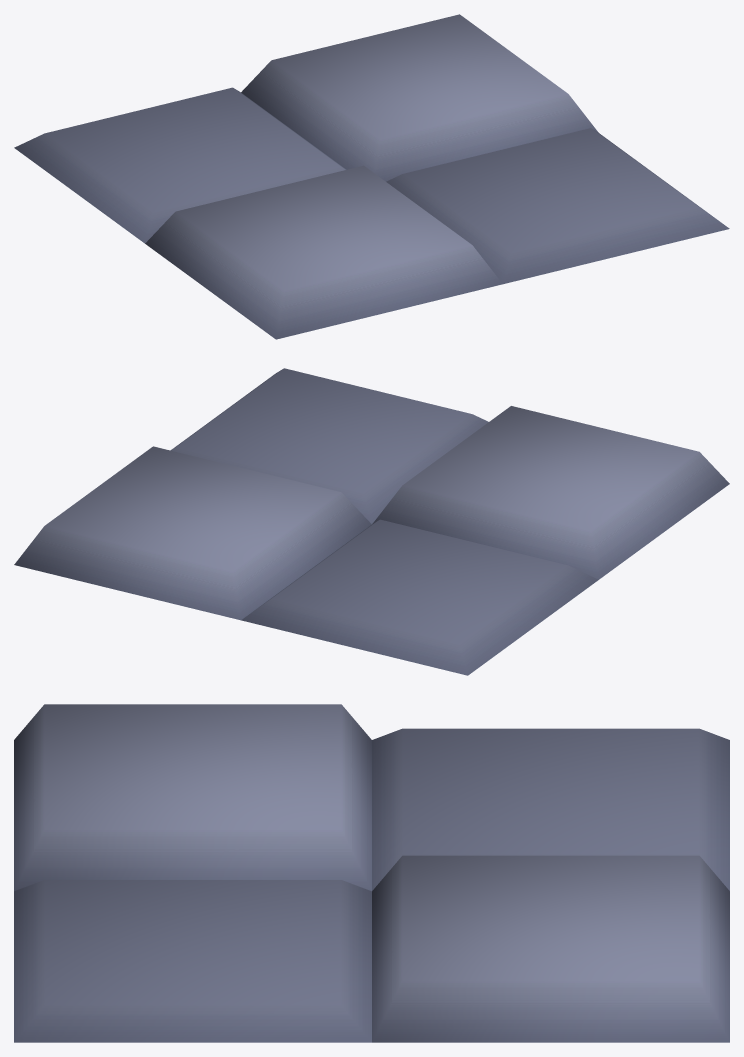
File: floor-stone.glb
The picture shows the model from 3 angles, top to bottom: view 1: azimuth 30°, elevation 25°; view 2: azimuth 150°, elevation 25°; view 3: azimuth 270°, elevation 25°; orthographic projection. The views are drawn at different scales.
Visible parts, largest first — view 1: floor-stone; view 2: floor-stone; view 3: floor-stone.
Part boxes in pixels (x1,y1,x2,y2): floor-stone: (14, 14, 729, 339); floor-stone: (14, 368, 729, 675); floor-stone: (14, 704, 729, 1042).
Size of the model in its own units: 1 by 0.075 by 1.
1 material, 1 textured.
